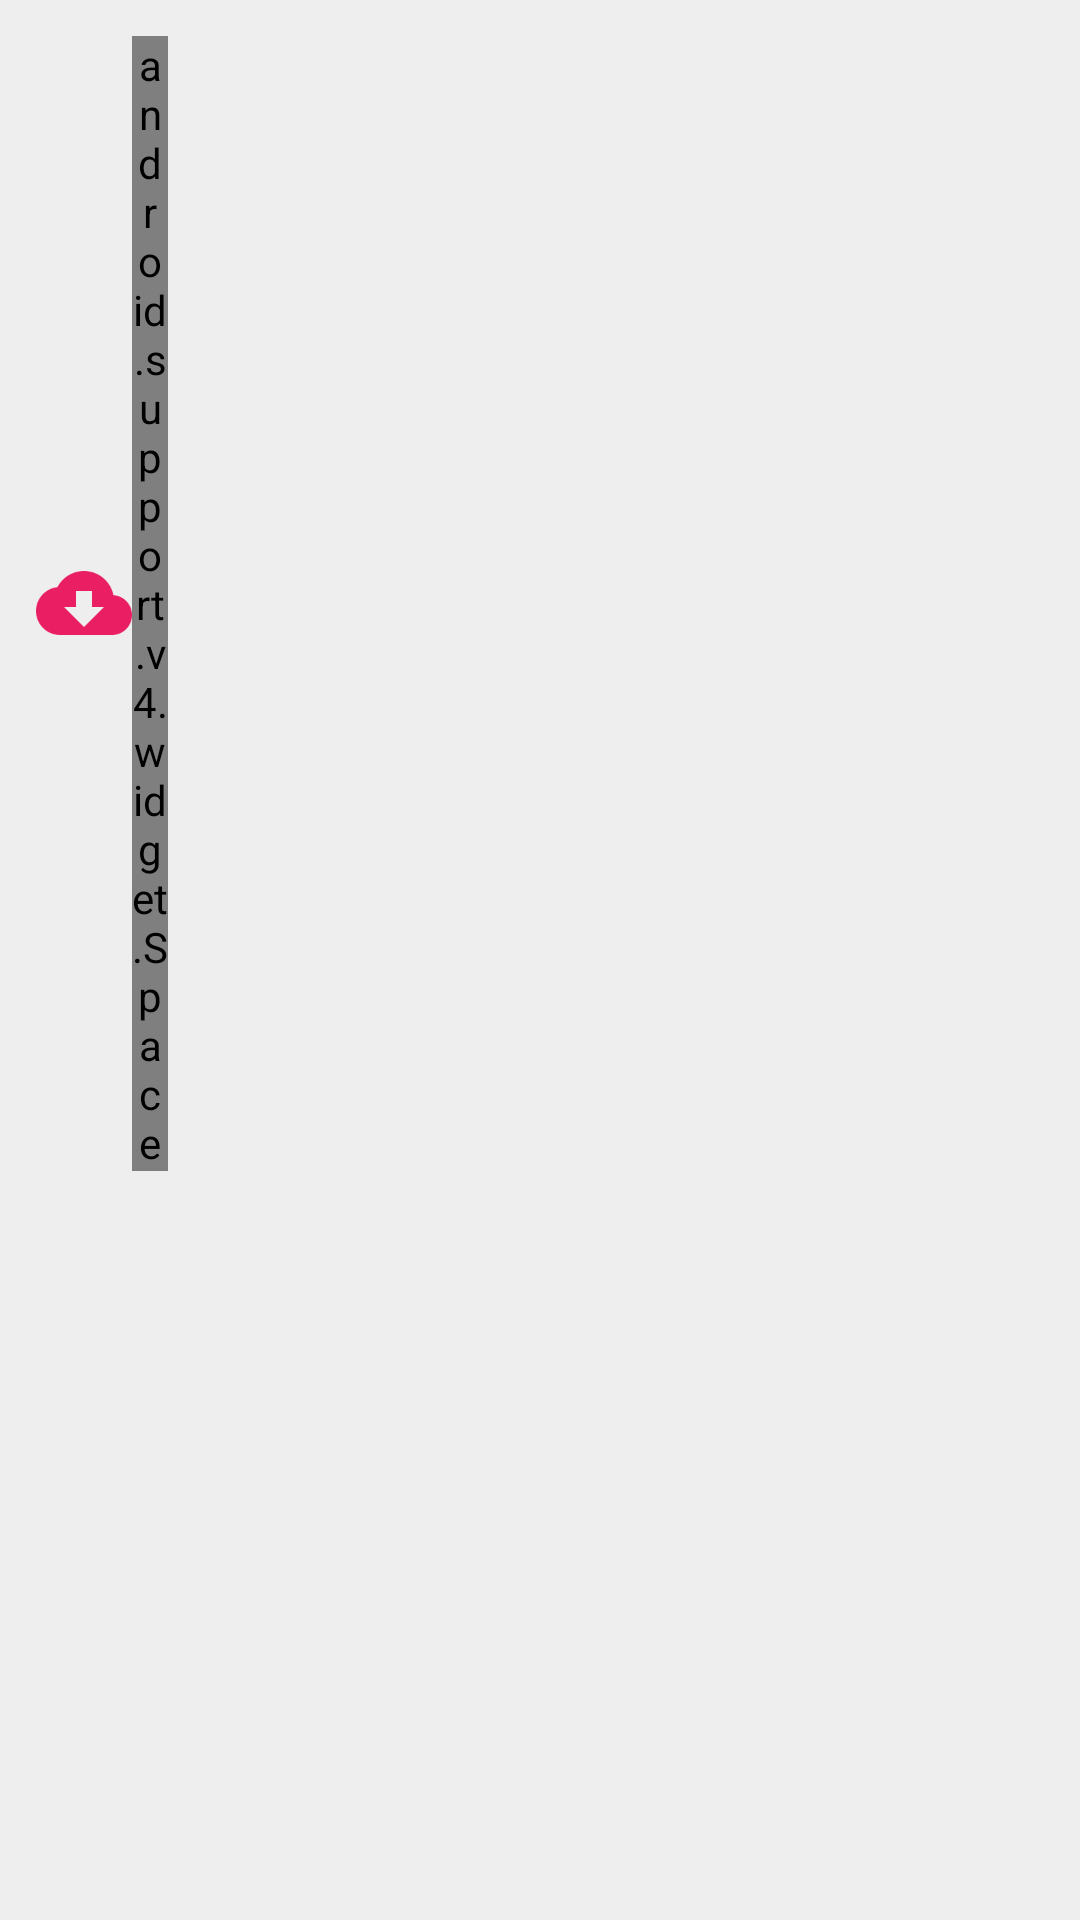

Where to tap for icons on this 1080px x 1920px app screen, as (x=x, y=y):
cloud download: (x=84, y=603)
